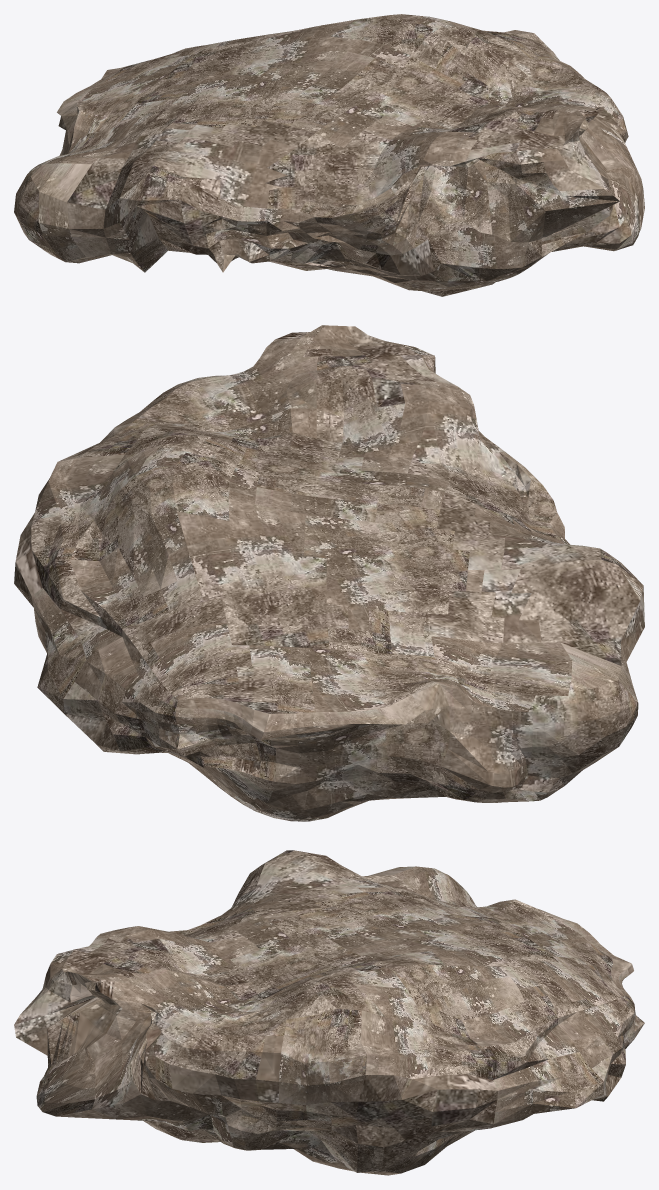
Rendered from Roca3.fbx.
3 renders of one model, top to bottom at view 1: azimuth 30°, elevation 25°; view 2: azimuth 150°, elevation 25°; view 3: azimuth 270°, elevation 25°, orthographic. The views are drawn at different scales.
Visible parts, largest first — view 1: Escombro5; view 2: Escombro5; view 3: Escombro5.
Boxes of the visible parts, left/top/right/bottom form: Escombro5: left=14, top=14, right=644, bottom=296; Escombro5: left=14, top=325, right=644, bottom=821; Escombro5: left=14, top=850, right=644, bottom=1175.
Size of the model in its own units: 379 by 154 by 399.
